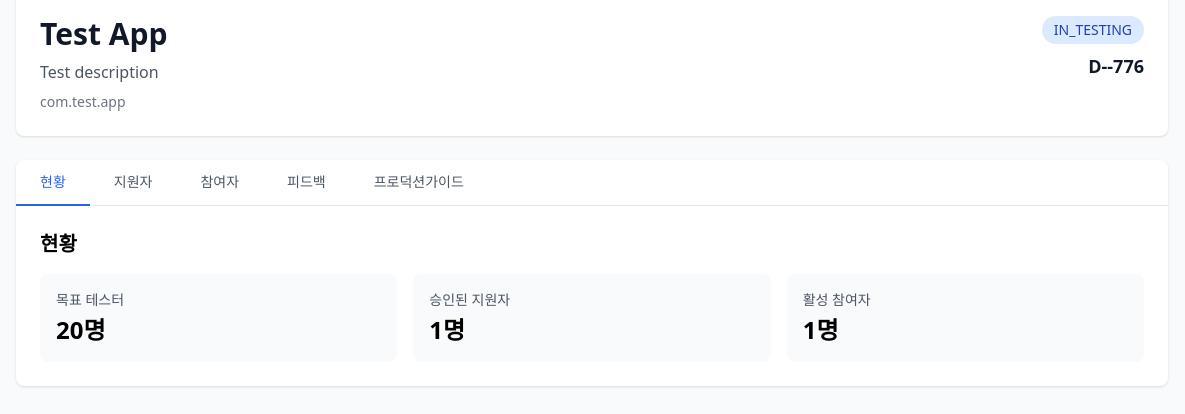
AppDetailPage › Participants Tab › displays participants list
The width and height of the screenshot is (1185, 414).
Check: the heading "Test App" is shown, box [40, 16, 167, 52]
Click the tab "참여자".
click(220, 183)  # box [176, 160, 263, 206]
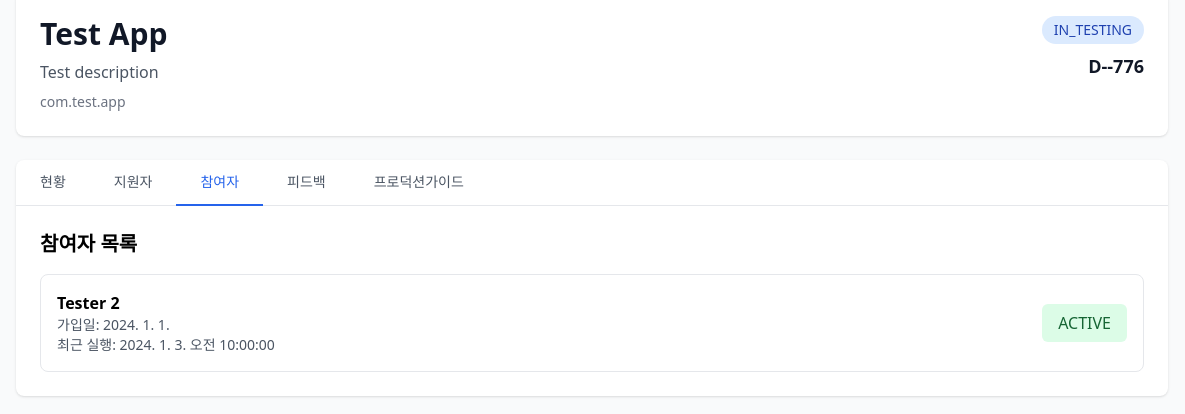
Check: the text "Tester 2" is shown, box [57, 292, 120, 314]
Check: the text "ACTIVE" is shown, box [1042, 304, 1127, 342]
